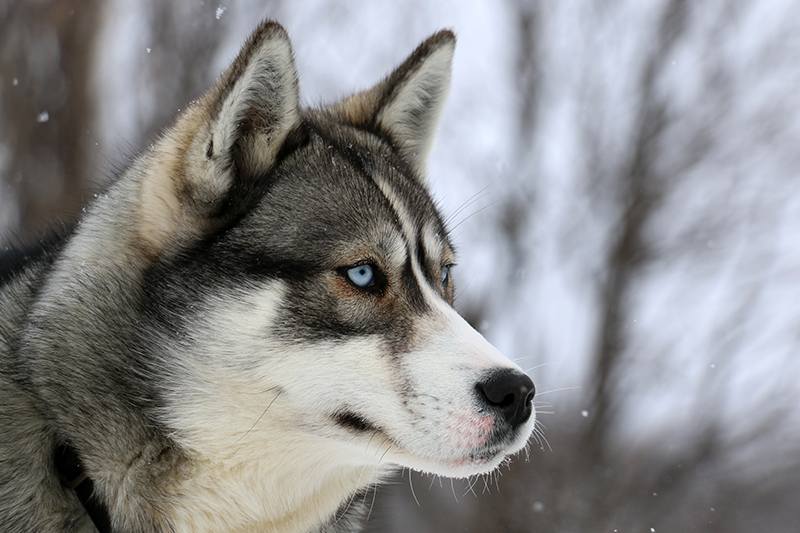husky: (62, 10, 572, 525)
